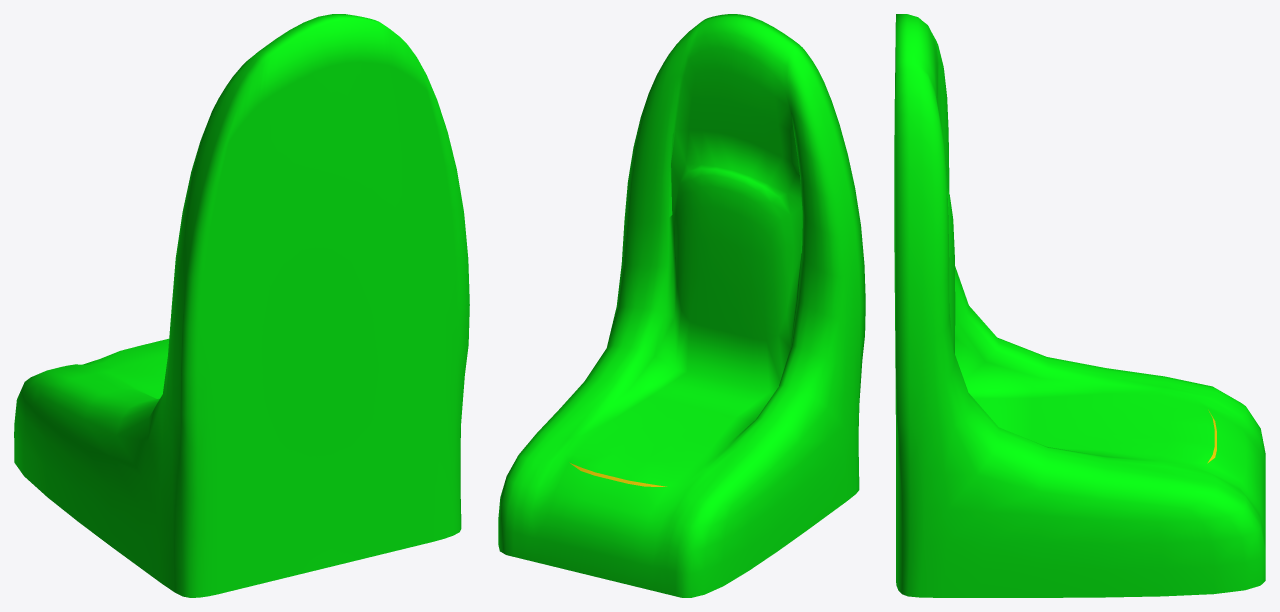
The model's file is Mech Seat.FBX.
3 views of the same model, side by side, from view 1: azimuth 30°, elevation 25°; view 2: azimuth 150°, elevation 25°; view 3: azimuth 270°, elevation 25° (orthographic). The views are drawn at different scales.
Visible parts, largest first — view 1: Box002; view 2: Box002; view 3: Box002.
Boxes of the visible parts, x1,y1,x2,y2 form: Box002: [14, 14, 469, 597]; Box002: [498, 14, 865, 597]; Box002: [894, 14, 1265, 597].
Size of the model in its own units: 20.6 by 37.67 by 24.85.
